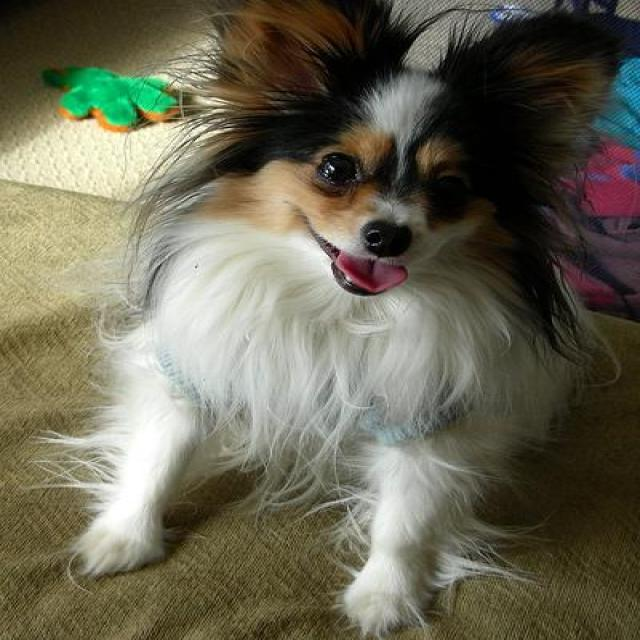adult_dog: (59, 1, 640, 628)
